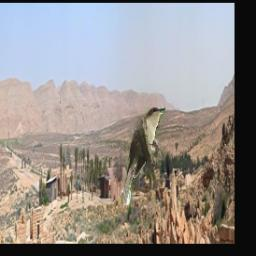Cuckoo: (121, 107, 165, 205)
